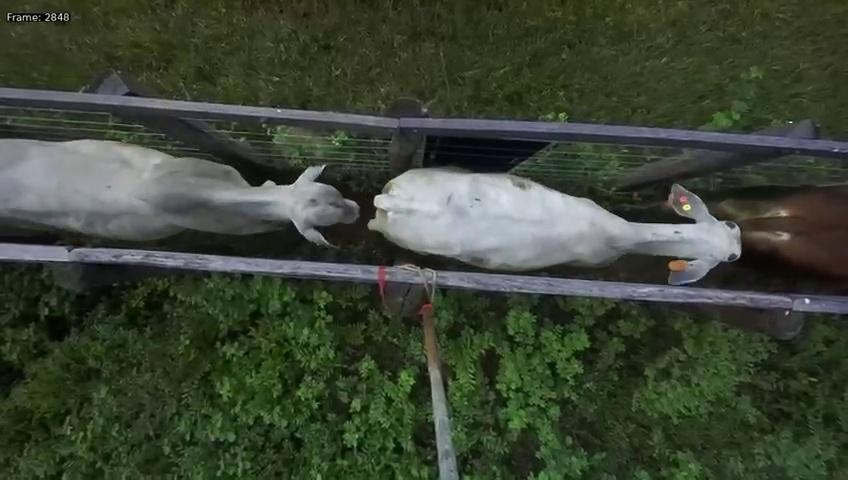cattle: (368, 155, 745, 288), (0, 133, 358, 250)
